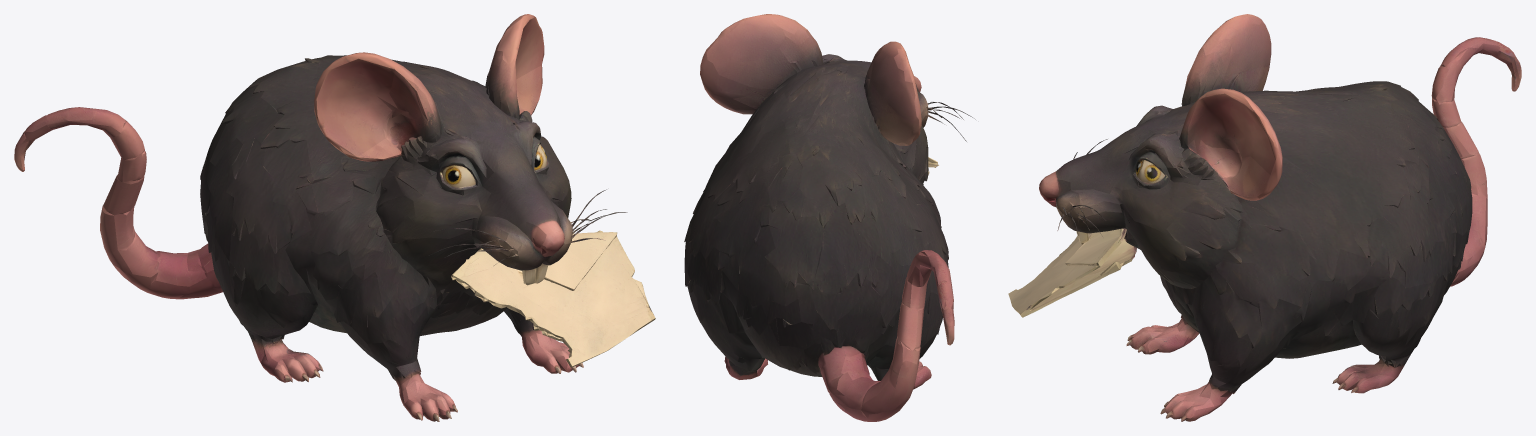
Rendered from packrat-generated.glb.
The picture shows the model from 3 angles, left to right: view 1: azimuth 30°, elevation 25°; view 2: azimuth 150°, elevation 25°; view 3: azimuth 270°, elevation 25°; orthographic projection. The views are drawn at different scales.
Bounding box in the file's own units: 1.66 × 1.3 × 1.9.
1 material, 1 textured.
